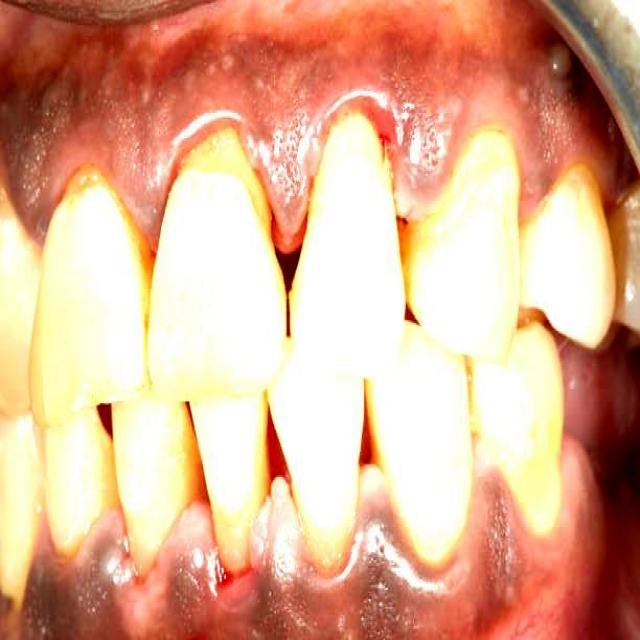gingivitis: (0, 345, 639, 638), (0, 0, 639, 249)
